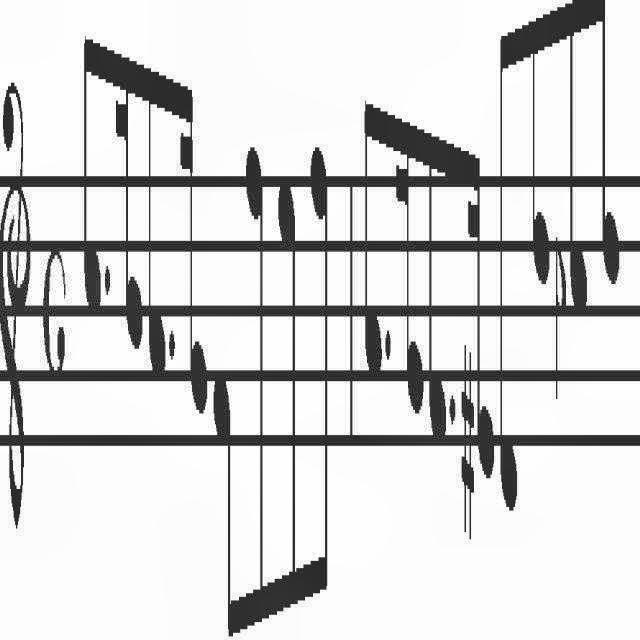Bass-clef: (1, 57, 32, 575)
Bemol: (548, 226, 568, 410)
Diez: (459, 343, 476, 559)
Eighth-note: (302, 126, 334, 618), (496, 0, 520, 548), (245, 130, 268, 640), (276, 154, 296, 632), (212, 360, 242, 640), (566, 0, 590, 342), (427, 102, 448, 488), (78, 22, 102, 326), (596, 0, 619, 312), (363, 54, 383, 406), (529, 0, 551, 306), (148, 50, 166, 402)
Sixteenth-note: (396, 90, 424, 434), (181, 64, 207, 428), (116, 47, 144, 357), (471, 120, 493, 492)
